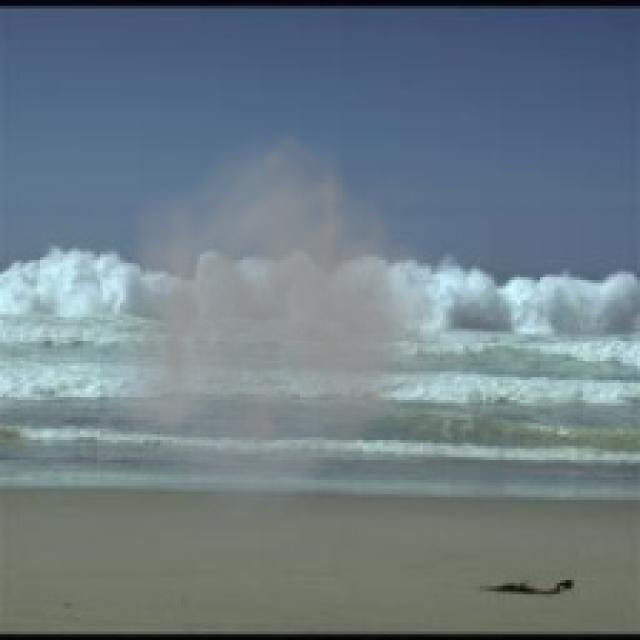smoke: (100, 115, 480, 534)
